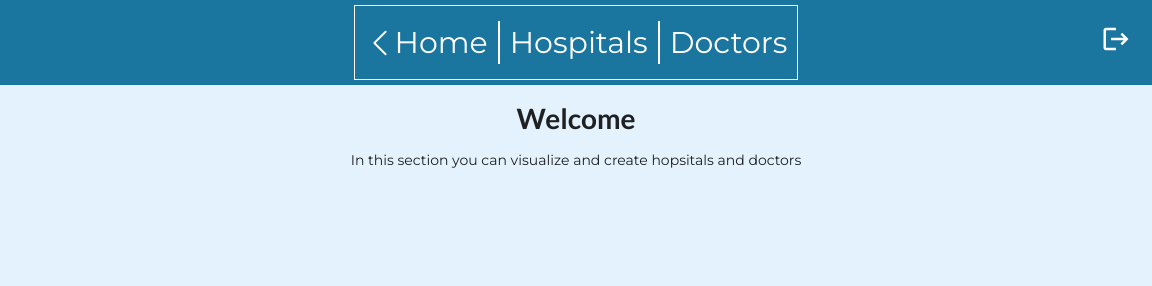
AdminPage › when renders › and the user is logged in › should allow to visit the hospitals page
What coordinates should you click on to do the following:
click the link "Hospitals"
I would click on:
 (579, 42)
Its box is [510,32,648,52].
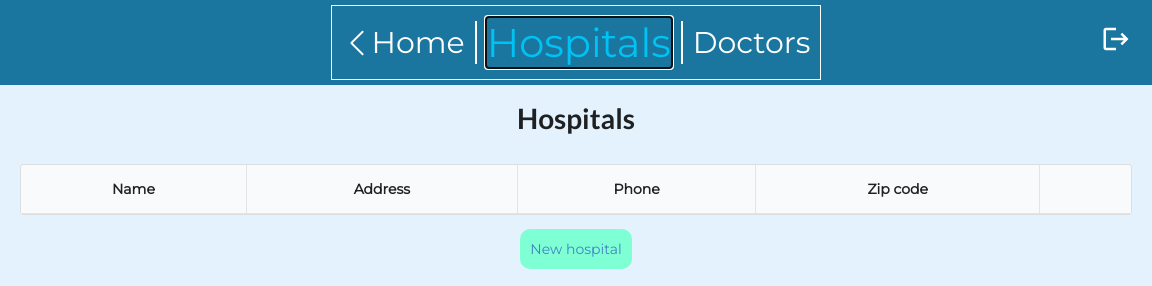
Expected: the heading "Hospitals" is shown, [517,100,635,136]
